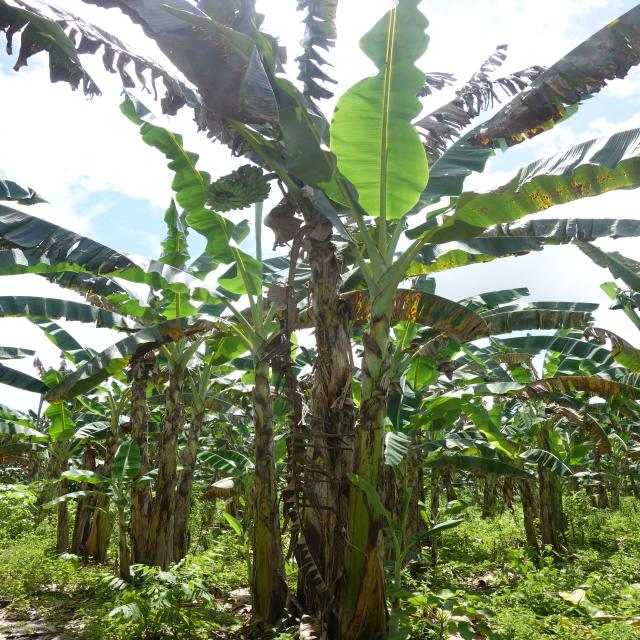Banana-plant: (338, 234, 412, 640), (230, 300, 294, 624)
